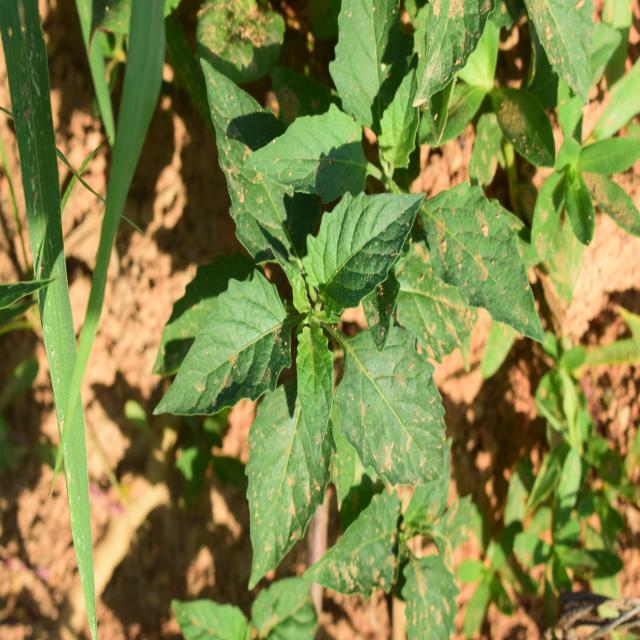Black_nightshade: (168, 167, 438, 519), (300, 14, 510, 326)
